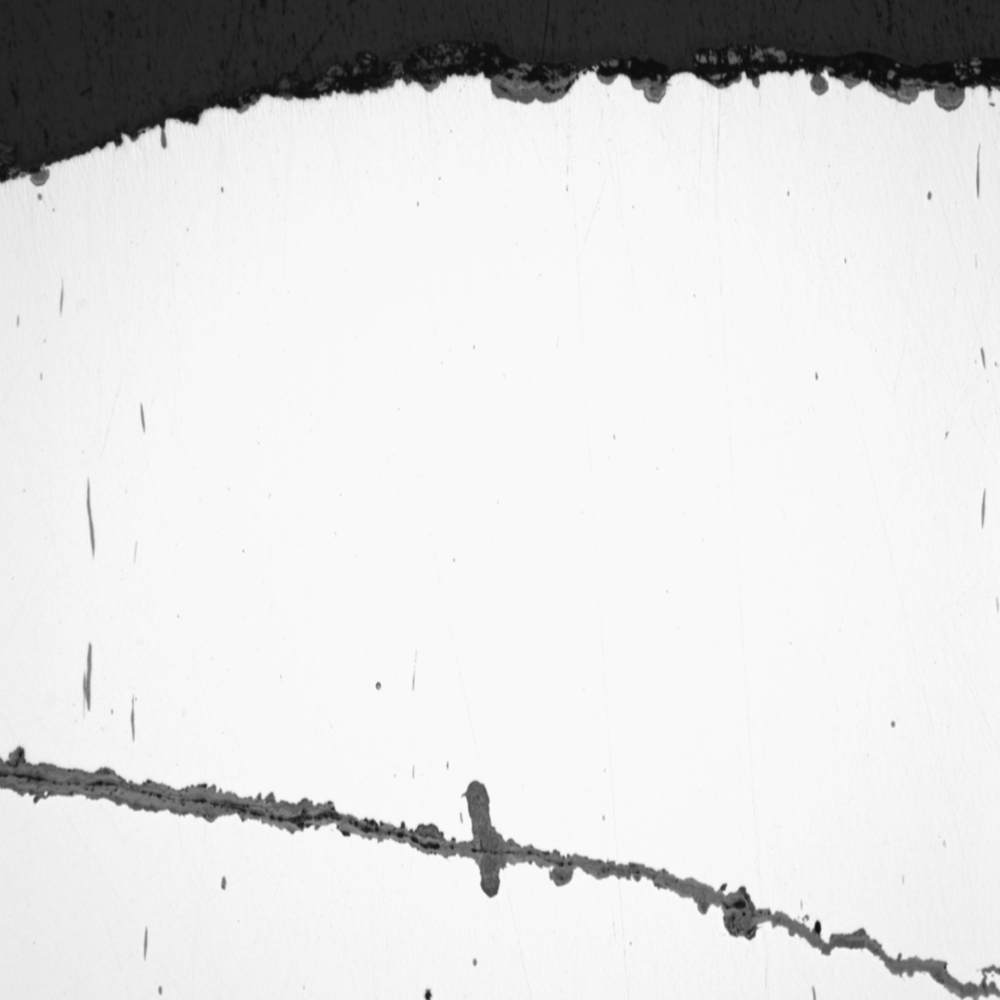crack: (10, 693, 989, 998)
